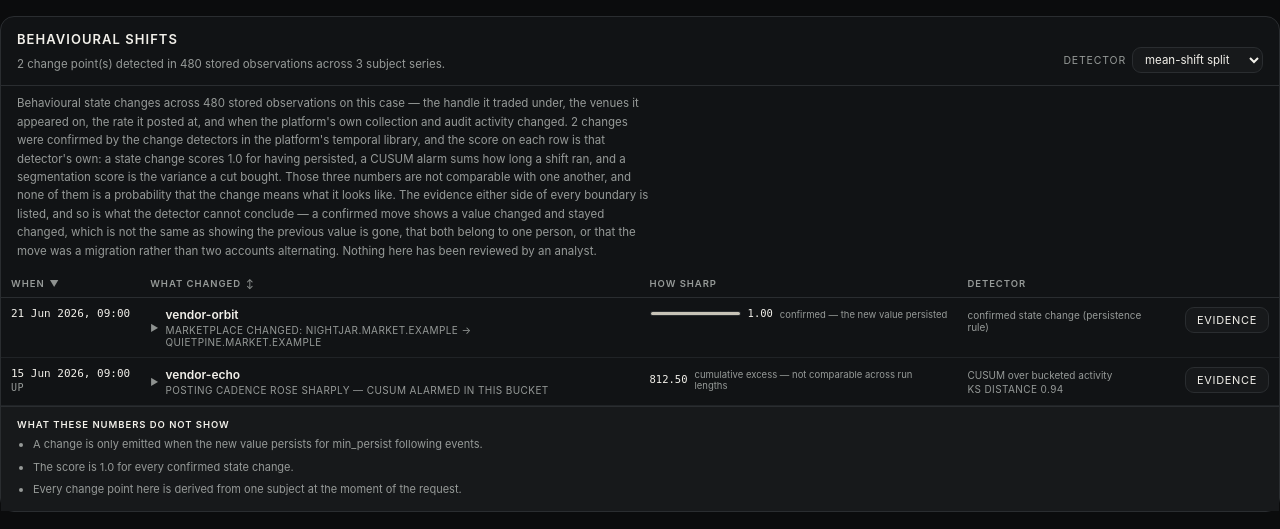
BehaviouralShifts › sorts by date with aria-sort, and says which way
Check: the text "21 Jun 2026, 09:00" is shown, box [1, 298, 140, 357]
Click the button "When ▼" at point(35, 283), box [11, 278, 60, 289]
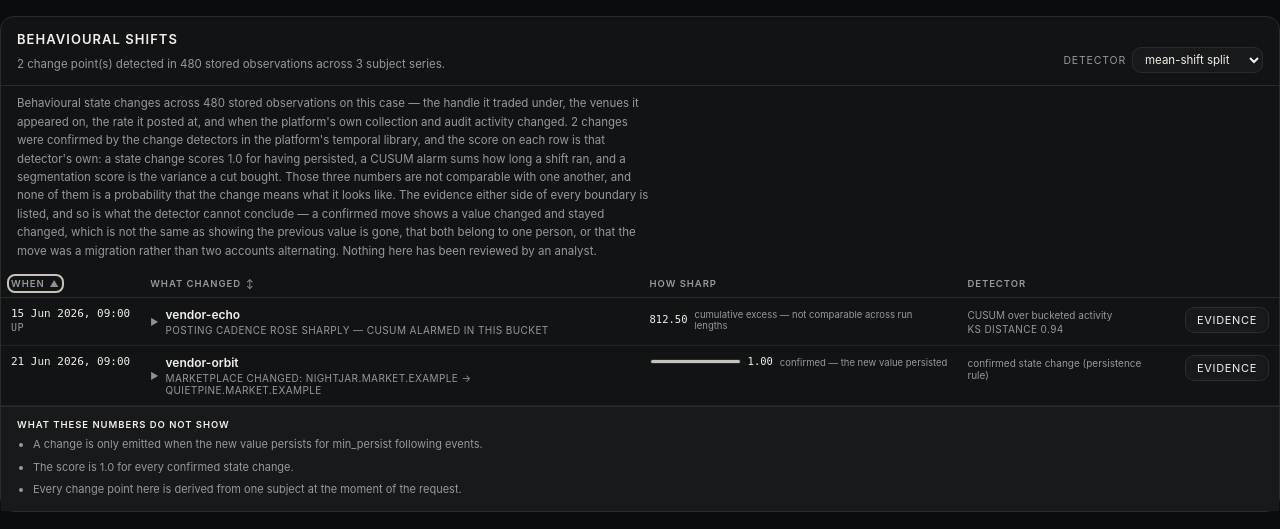
Check: the column heading "When ▲" is shown, box [1, 270, 140, 297]
Check: the text "15 Jun 2026, 09:00 up" is shown, box [1, 298, 140, 345]
